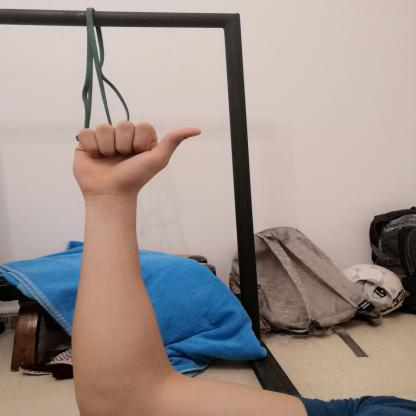DAD: (61, 115, 214, 206)
